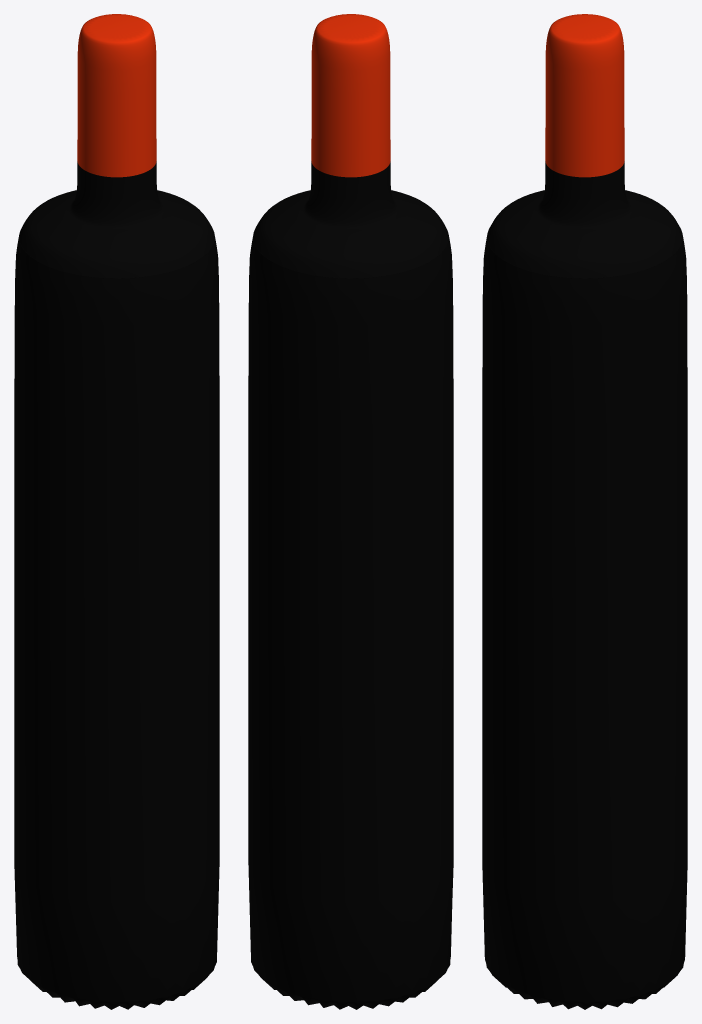
Rendered from wine.fbx.
3 renders of one model, left to right at view 1: azimuth 30°, elevation 25°; view 2: azimuth 150°, elevation 25°; view 3: azimuth 270°, elevation 25°, orthographic.
Visible parts, largest first — view 1: Cylinder; view 2: Cylinder; view 3: Cylinder.
Part boxes in pixels (bbox=[...]): Cylinder: bbox=[14, 14, 219, 1009]; Cylinder: bbox=[248, 14, 453, 1009]; Cylinder: bbox=[482, 14, 687, 1009].
Bounding box in the file's own units: 40.56 × 206 × 40.56.
